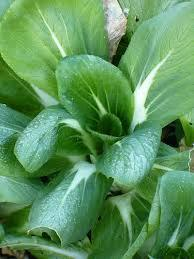Healthy-Pechay: (3, 6, 194, 244)
